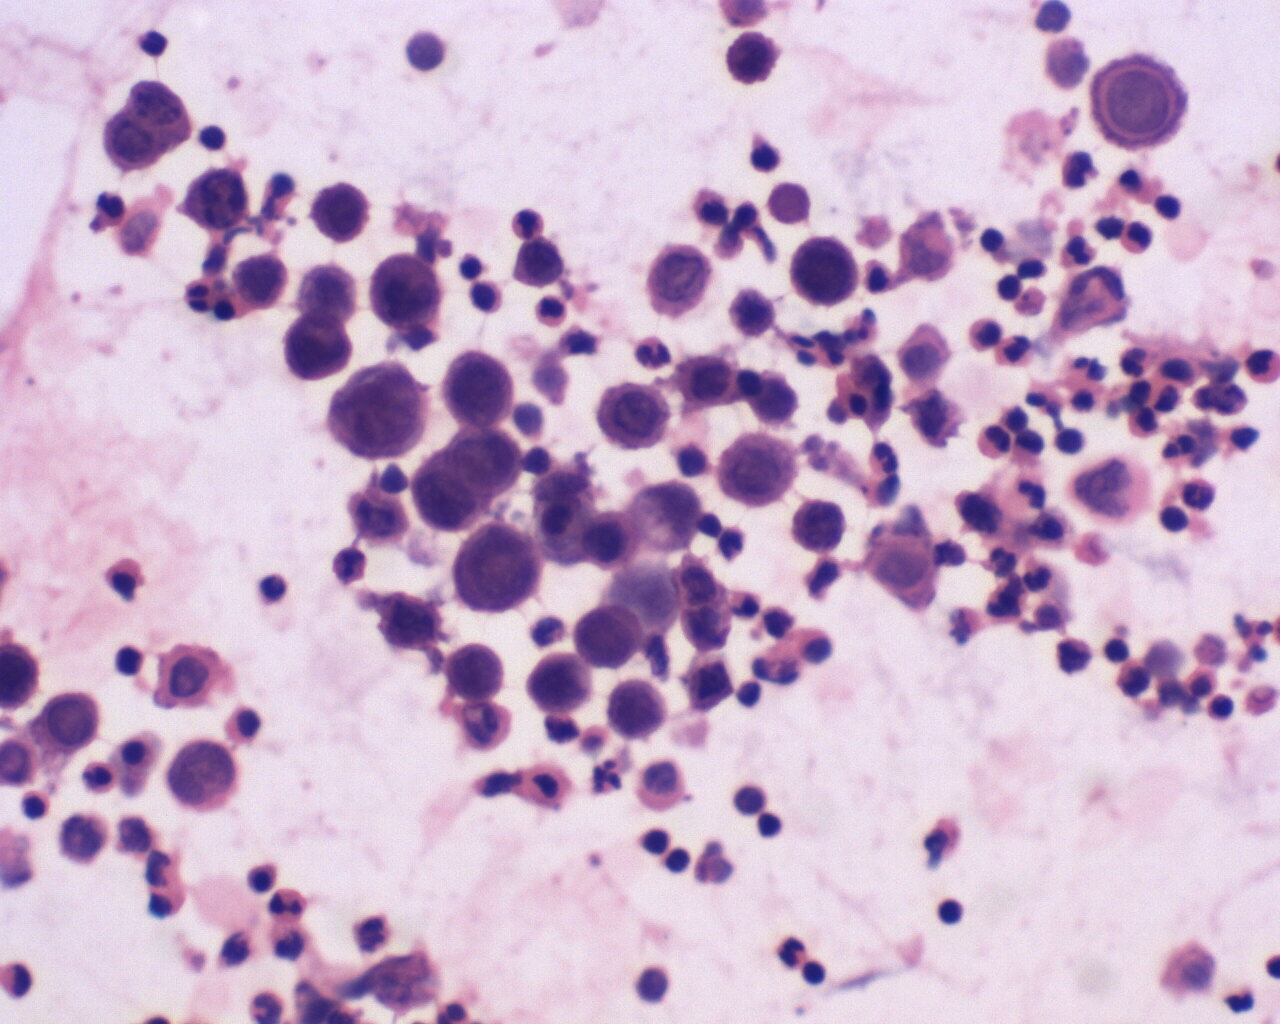ab: (413, 423, 523, 534), (1089, 48, 1194, 153), (322, 357, 428, 461), (99, 76, 195, 174), (450, 519, 542, 620), (717, 425, 801, 509), (365, 246, 443, 333), (440, 347, 518, 429), (163, 738, 245, 814), (596, 377, 675, 455), (786, 234, 864, 310), (283, 316, 356, 388), (377, 587, 452, 657), (180, 166, 256, 232), (528, 650, 594, 719), (670, 349, 739, 415), (579, 598, 643, 668), (37, 691, 101, 759), (603, 675, 668, 742), (308, 180, 372, 243), (443, 641, 507, 702), (721, 30, 786, 89), (233, 253, 290, 312), (788, 498, 850, 554), (511, 237, 569, 289)
lymph: (194, 121, 233, 158), (638, 822, 675, 860), (975, 223, 1013, 259), (933, 894, 968, 932), (1098, 633, 1132, 667)
neutro: (631, 334, 674, 374), (269, 887, 309, 928), (974, 420, 1013, 461), (1121, 215, 1156, 258), (1183, 472, 1217, 514), (535, 294, 573, 331), (590, 757, 626, 796), (776, 934, 809, 973)
